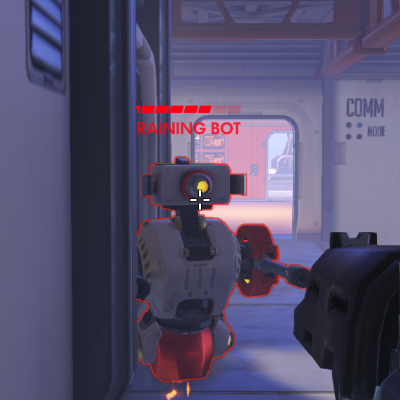hpbar: (135, 105, 242, 114)
